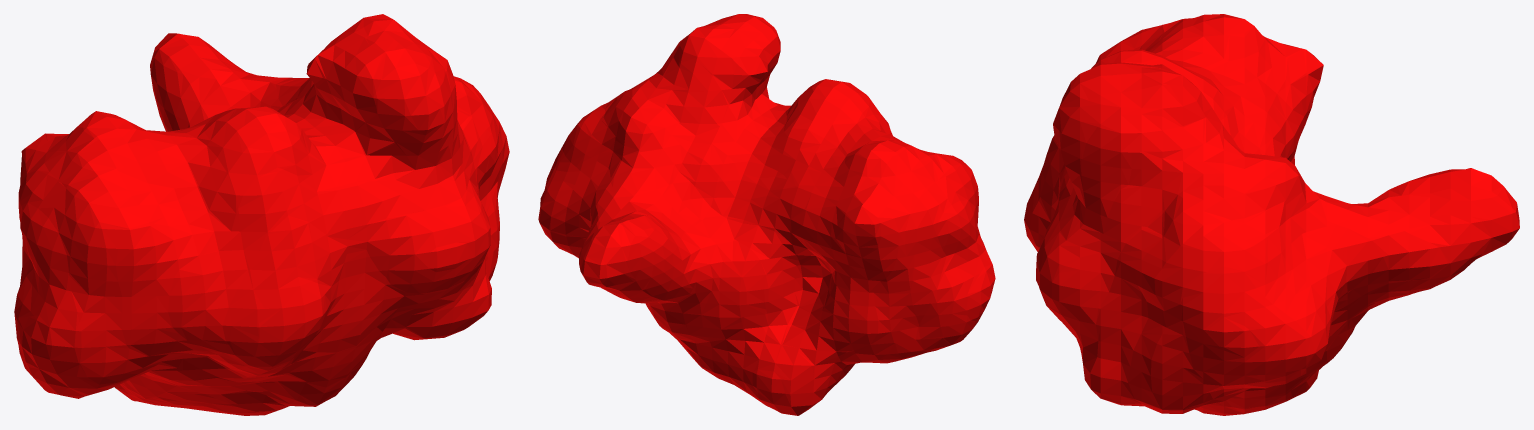
Rendered from dppF_coarse.dae.
3 renders of one model, left to right at view 1: azimuth 30°, elevation 25°; view 2: azimuth 150°, elevation 25°; view 3: azimuth 270°, elevation 25°, orthographic. The views are drawn at different scales.
Parts seen in each view (by area): view 1: dppF; view 2: dppF; view 3: dppF.
Part boxes in pixels (box(x1,y1,x2,y2)): dppF: box(14, 14, 509, 415); dppF: box(538, 14, 995, 415); dppF: box(1024, 14, 1519, 415).
Size of the model in its own units: 72.29 by 52.9 by 62.05.
